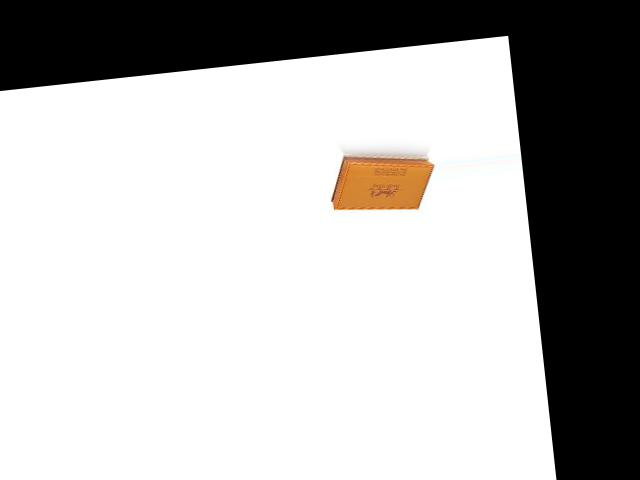chocolate: (323, 138, 438, 221)
